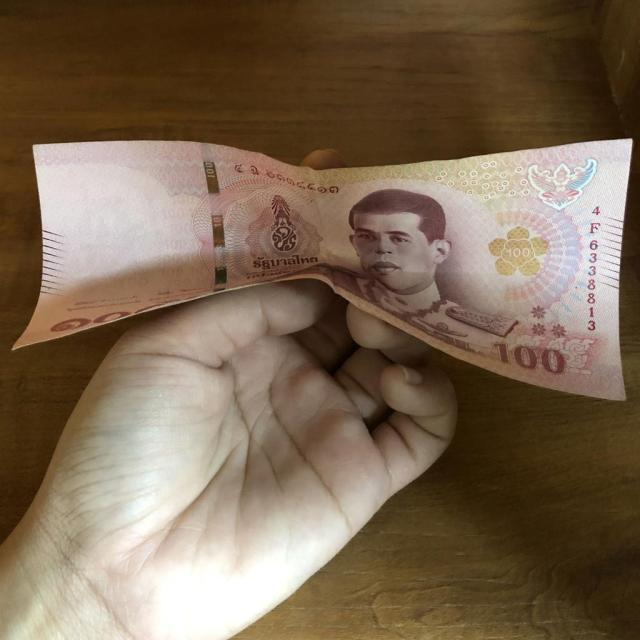THAI100: (14, 139, 632, 398)
